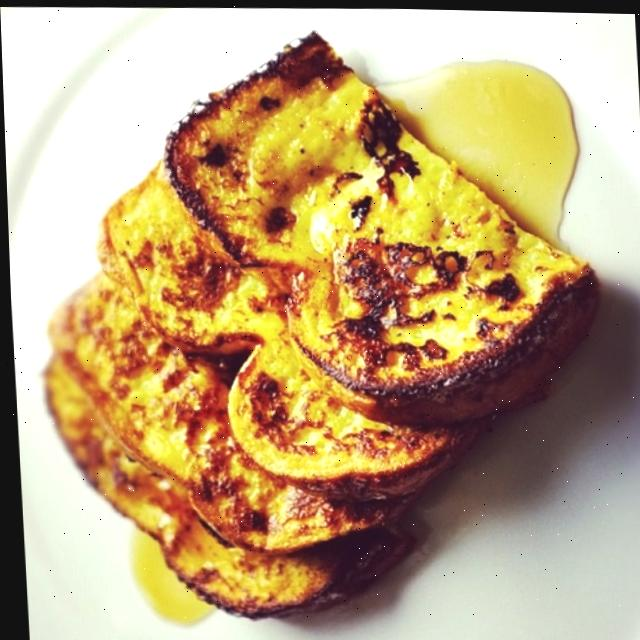面包点心: (6, 11, 626, 626)
